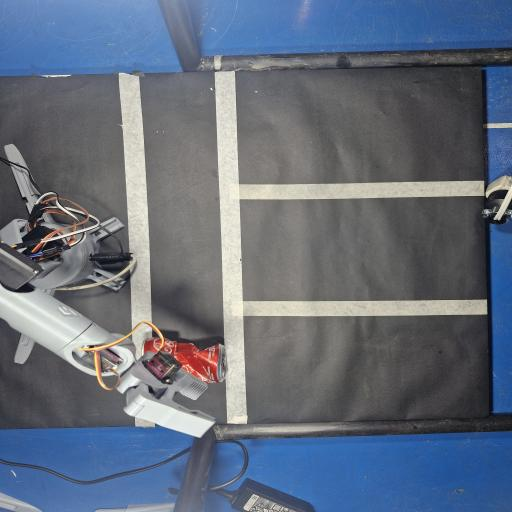lata_defectuoso: (162, 338, 227, 383), (144, 337, 160, 352)
